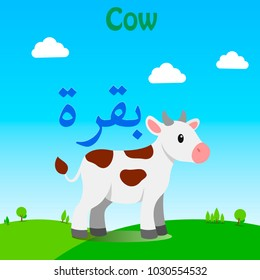animal: (56, 112, 216, 239)
cloud: (30, 35, 75, 61), (212, 48, 255, 75), (142, 64, 190, 87)
